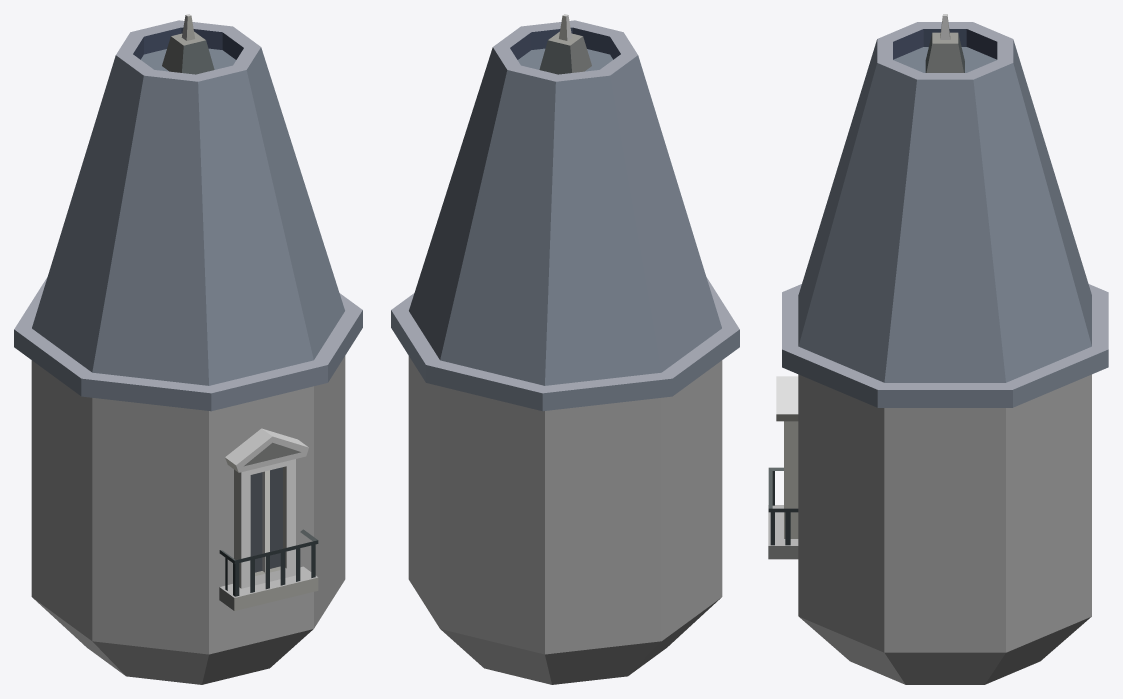
The model's file is TB_CITY_BD_Part_RT_A.FBX.
The picture shows the model from 3 angles, left to right: view 1: azimuth 30°, elevation 25°; view 2: azimuth 150°, elevation 25°; view 3: azimuth 270°, elevation 25°; orthographic projection.
Visible parts, largest first — view 1: TB_CITY_BD_Part_RT_A; view 2: TB_CITY_BD_Part_RT_A; view 3: TB_CITY_BD_Part_RT_A.
Boxes of the visible parts, bbox=[...] form: TB_CITY_BD_Part_RT_A: bbox=[14, 14, 362, 684]; TB_CITY_BD_Part_RT_A: bbox=[391, 14, 739, 684]; TB_CITY_BD_Part_RT_A: bbox=[768, 14, 1108, 684].
Bounding box in the file's own units: 6.57 × 13.98 × 6.84.
